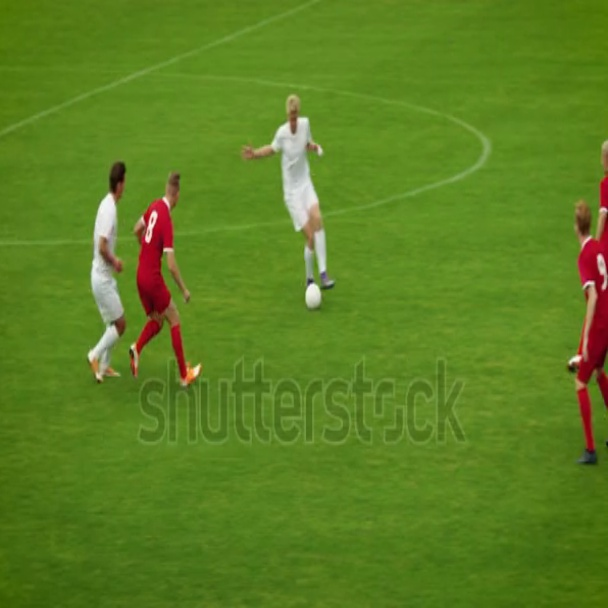ball: (306, 280, 324, 316)
